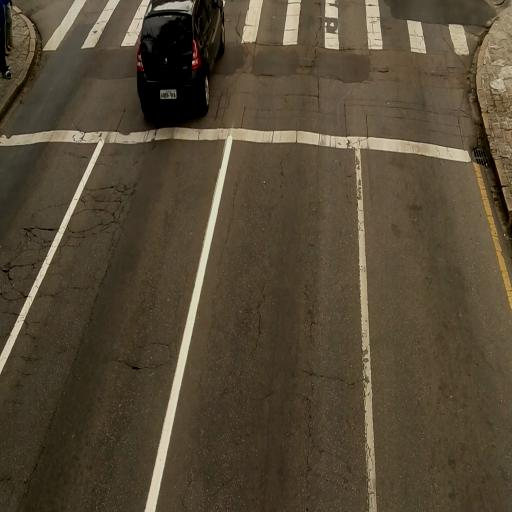car: (133, 2, 226, 119)
